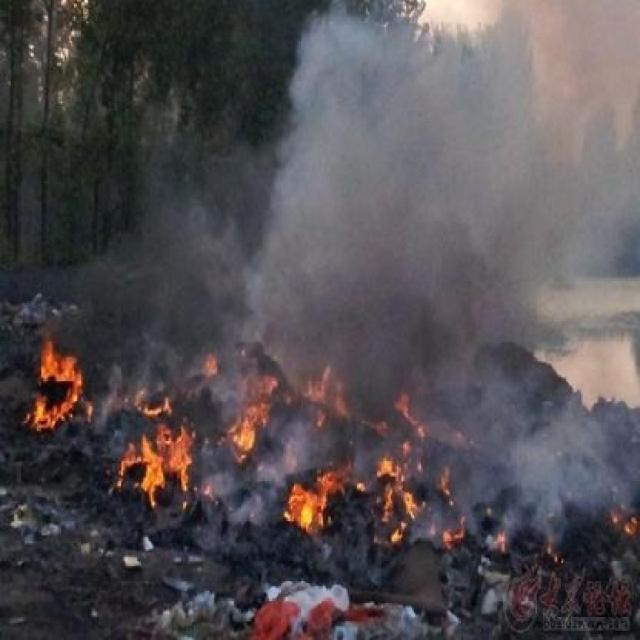Fire: (114, 346, 640, 584)
Smoke: (202, 4, 640, 343), (22, 316, 96, 448)
